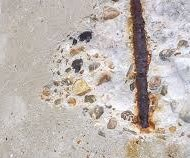Exposed reinforcement: (129, 1, 151, 129)
Spalling: (39, 1, 190, 144)
